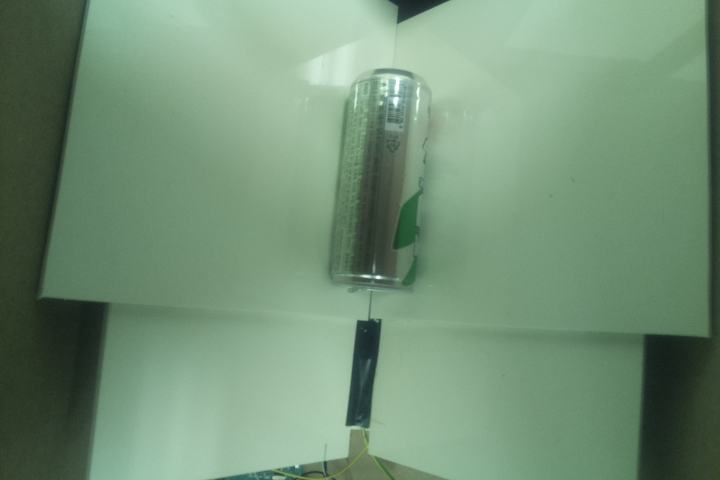can: (324, 62, 432, 296)
